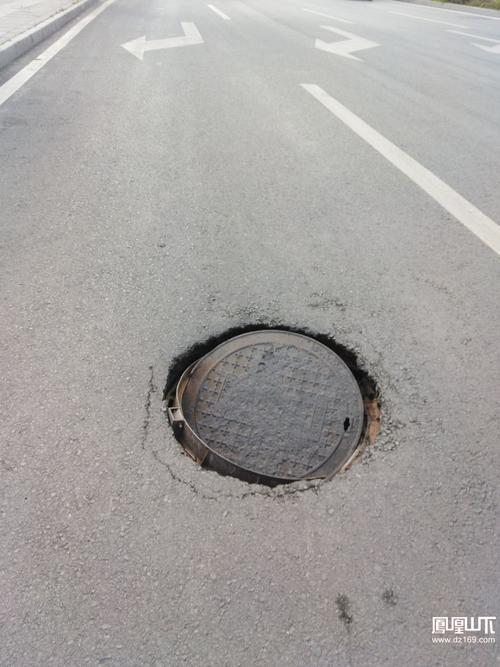circle: (127, 309, 407, 503)
